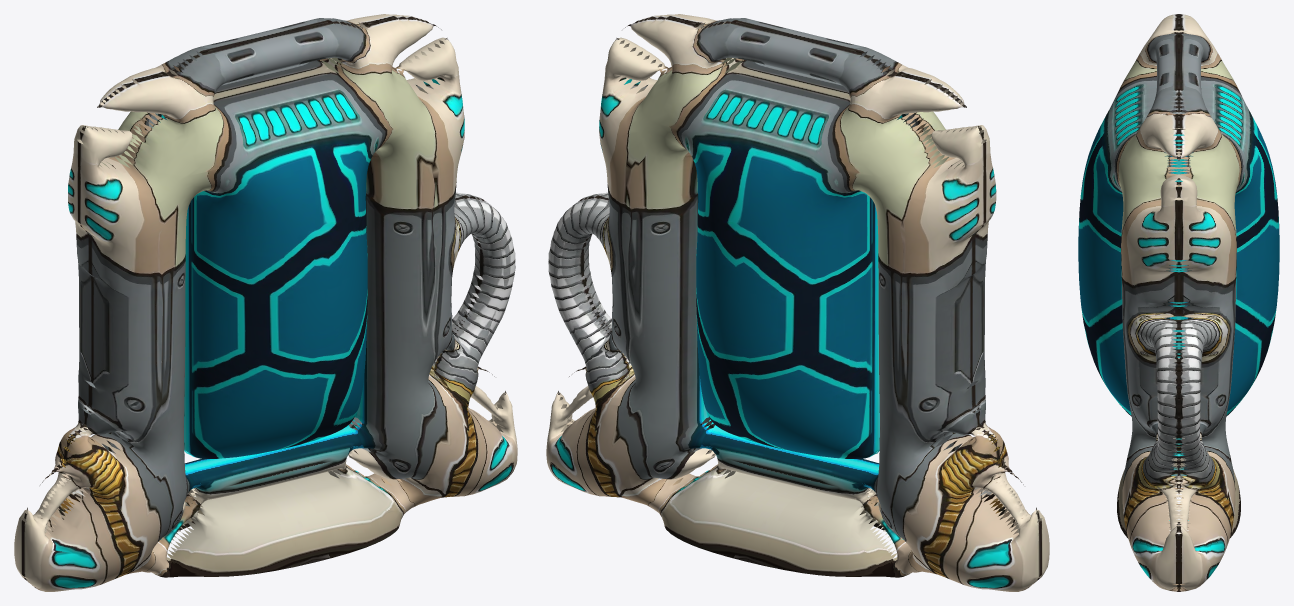
File: hex_gate.glb
3 renders of one model, left to right at view 1: azimuth 30°, elevation 25°; view 2: azimuth 150°, elevation 25°; view 3: azimuth 270°, elevation 25°, orthographic. The views are drawn at different scales.
Parts seen in each view (by area): view 1: hex_gate; view 2: hex_gate; view 3: hex_gate.
Part boxes in pixels (box(x1,y1,x2,y2)): hex_gate: box(14, 14, 517, 591); hex_gate: box(546, 14, 1049, 591); hex_gate: box(1078, 14, 1279, 591).
Bounding box in the file's own units: 0.9889 × 0.9762 × 0.4066.
Materials: 1 (1 with a texture image).
